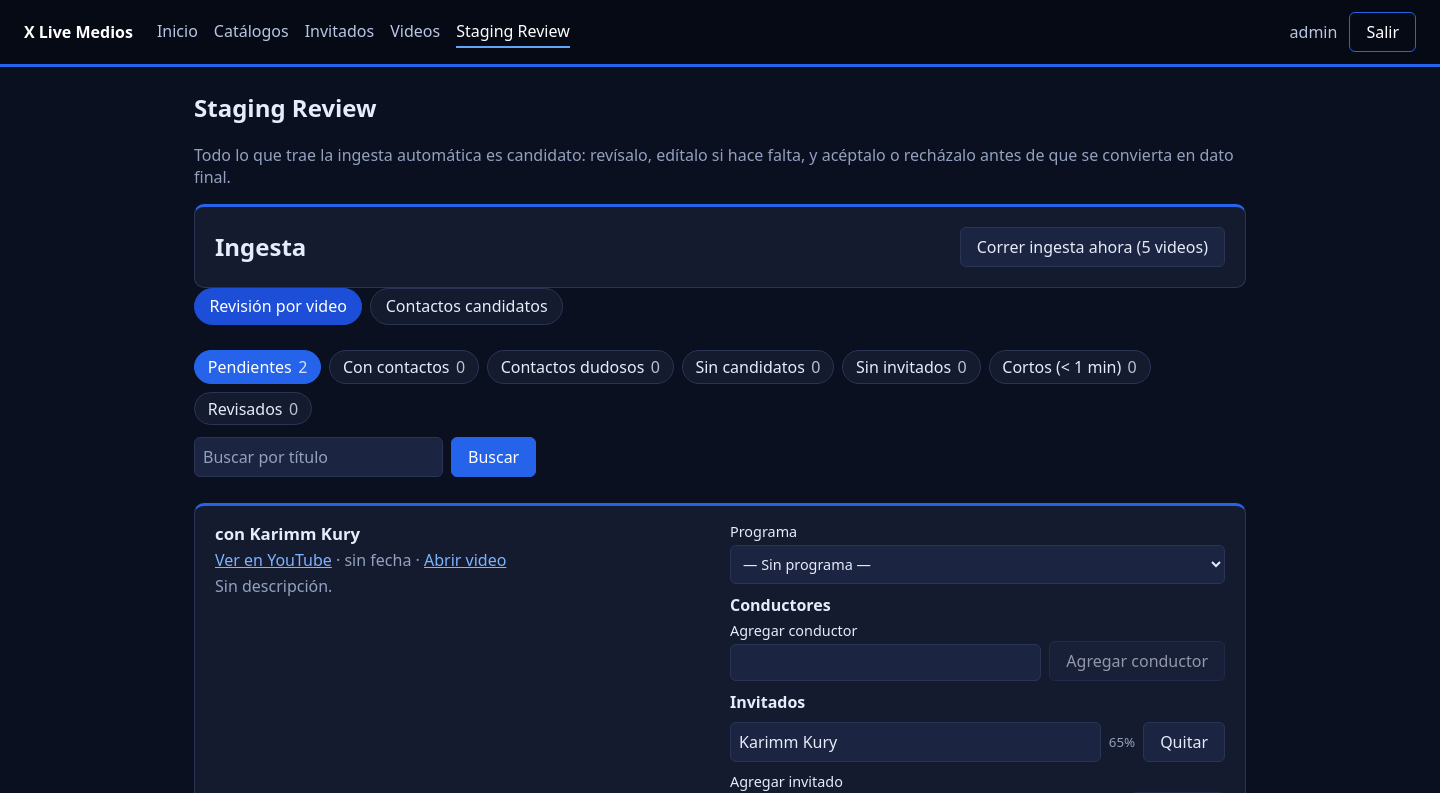
Test: Revisión por video › busca por título
The image size is (1440, 793).
Type "deportes" into the search field labelled "Buscar por título" at (318, 458), box [194,438,443,478]
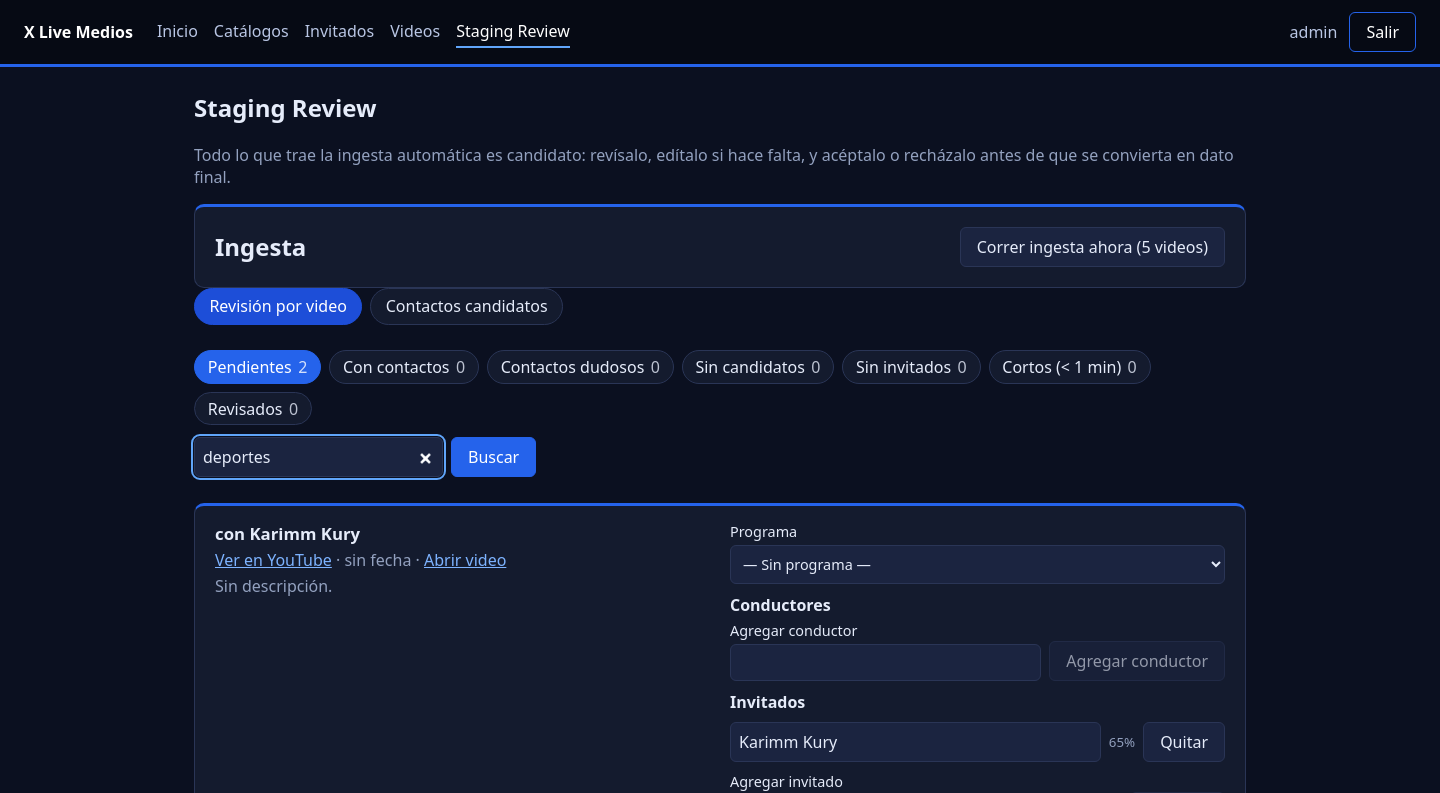
Click the button "Buscar" at (494, 458), box [451,438,536,478]
(page scrolled)
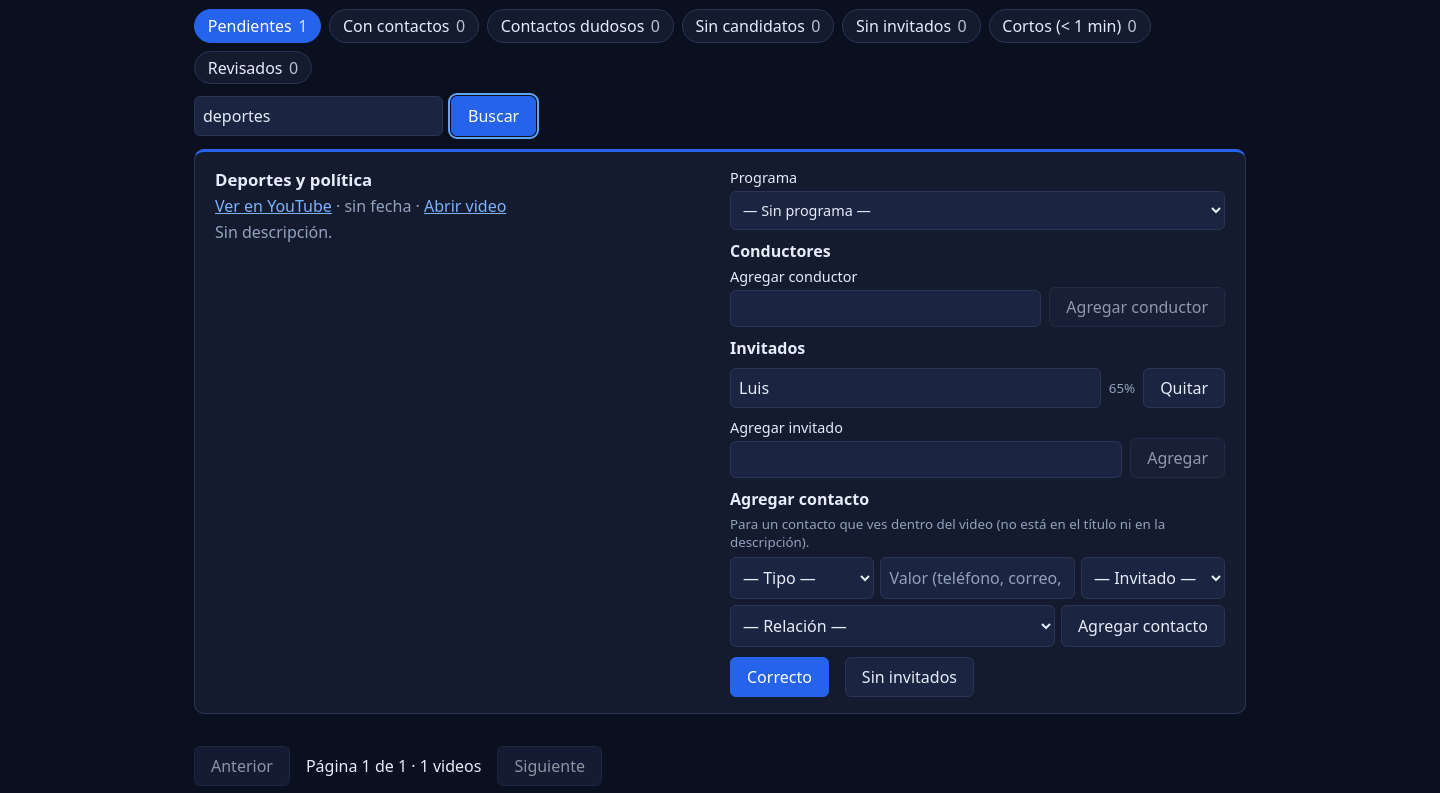
Check: the element "Deportes y política" is shown, box [194,149,1246,714]
Check: the heading "con Karimm Kury" is gone
